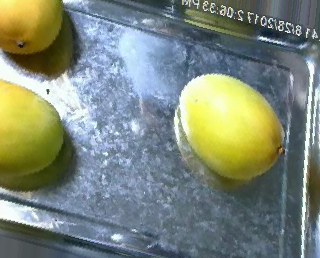Mango: (180, 74, 283, 180), (0, 78, 62, 175), (0, 0, 62, 54)
